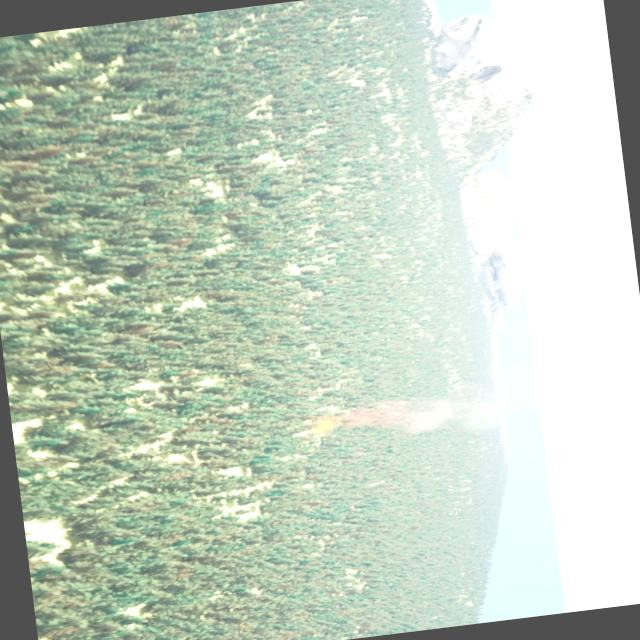fire: (308, 412, 346, 434)
smoke: (341, 384, 508, 447)
